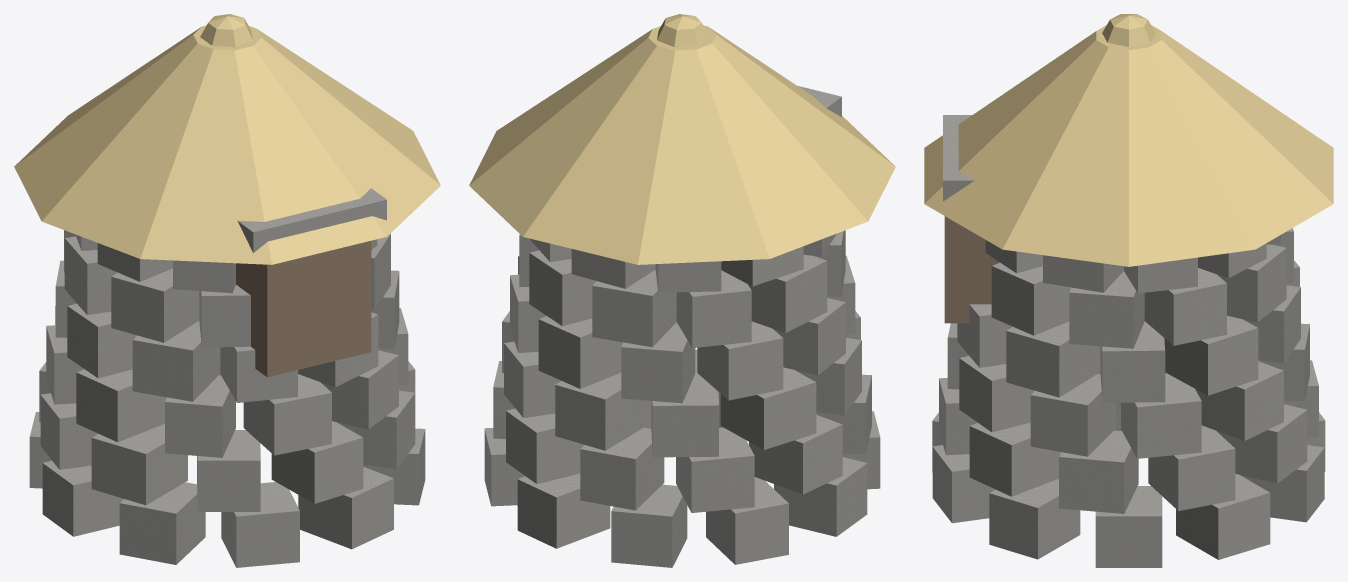
File: andean-terraces-and-stone-village-stone-granary-23bb7342__38252.glb
The picture shows the model from 3 angles, left to right: view 1: azimuth 30°, elevation 25°; view 2: azimuth 150°, elevation 25°; view 3: azimuth 270°, elevation 25°; orthographic projection.
Parts seen in each view (by area): view 1: stone-granary-stone, stone-granary-thatch, stone-granary-earth; view 2: stone-granary-stone, stone-granary-thatch; view 3: stone-granary-stone, stone-granary-thatch, stone-granary-earth.
Boxes of the visible parts, bbox=[...] form: stone-granary-stone: bbox=[29, 188, 425, 567]; stone-granary-thatch: bbox=[14, 14, 440, 264]; stone-granary-earth: bbox=[236, 241, 371, 377]; stone-granary-stone: bbox=[484, 86, 880, 567]; stone-granary-thatch: bbox=[469, 14, 895, 264]; stone-granary-stone: bbox=[932, 115, 1325, 567]; stone-granary-thatch: bbox=[924, 14, 1333, 266]; stone-granary-earth: bbox=[944, 216, 999, 323].
Size of the model in its own units: 2.5 by 3.01 by 2.38.
Materials: 3 (1 with a texture image).
